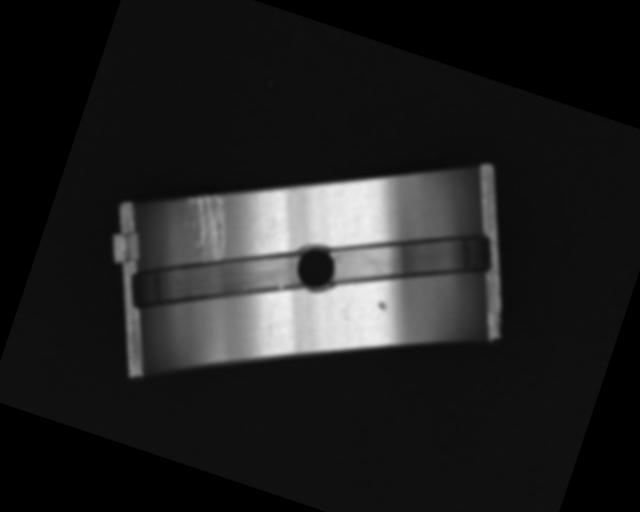bruise: (376, 299, 390, 313)
gap: (126, 210, 309, 354), (325, 193, 496, 322)
hole: (290, 241, 341, 296)
nick: (257, 311, 281, 352)
scratch: (172, 186, 241, 266)
